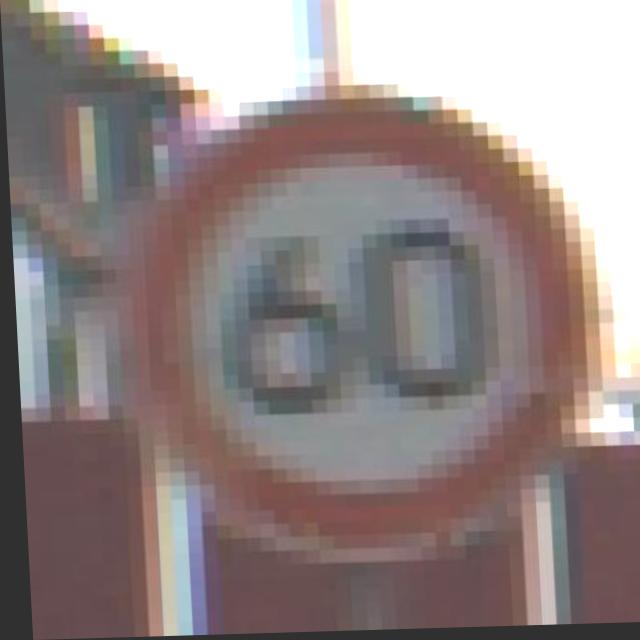limit60: (110, 75, 616, 583)
